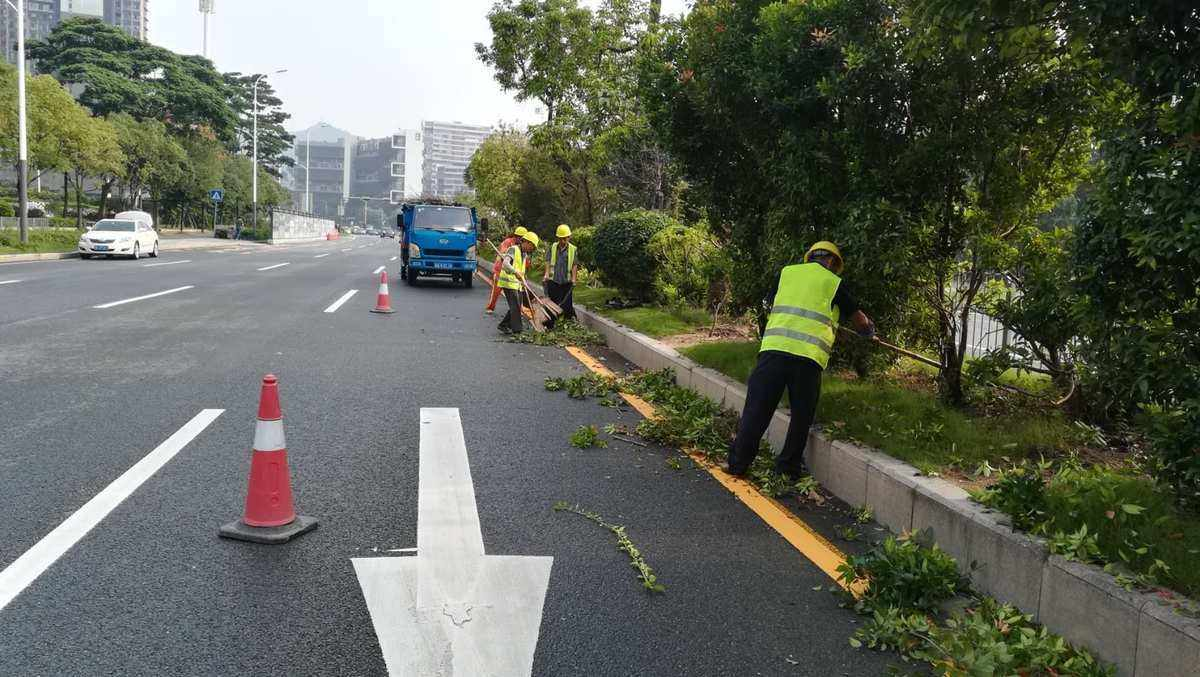ordinary_clothes: (547, 241, 577, 283)
person: (720, 239, 847, 481), (495, 227, 539, 337), (484, 225, 527, 315), (543, 223, 579, 326)
reflective_vest: (757, 261, 842, 372), (496, 245, 526, 291), (492, 238, 514, 273)
safety_helmet: (802, 239, 846, 276), (555, 223, 571, 247), (521, 231, 538, 252), (512, 226, 528, 243)
